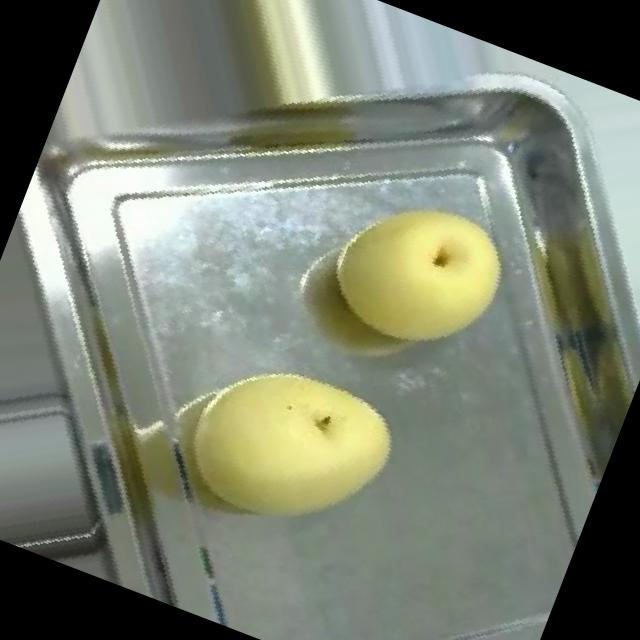Fruit: (133, 300, 447, 600), (288, 154, 548, 404)
